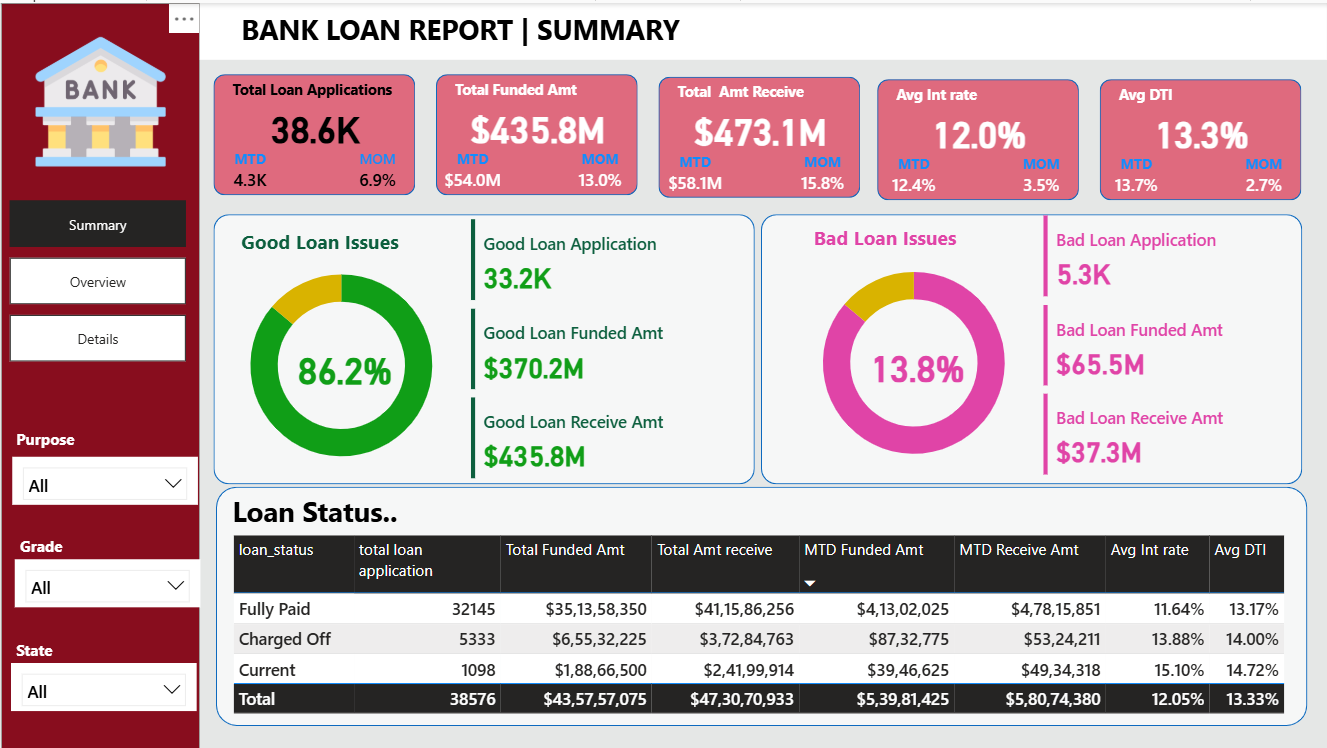

The dashboard page shown, as its layout file describes it:
{"tool":"powerbi","page":{"name":"Summary ","canvas":[1280,720],"ordinal":0},"visuals":[{"type":"image","box":[26,27.4,141.4,135.6],"z":0,"group":"g13"},{"type":"shape","box":[205.1,68.8,194.8,116.9],"z":0,"group":"g1"},{"type":"shape","box":[420.1,68.8,194.8,116.9],"z":0,"group":"g3"},{"type":"shape","box":[635,71.7,194.8,116.9],"z":0,"group":"g4"},{"type":"shape","box":[845.7,73.1,194.8,116.9],"z":0,"group":"g5"},{"type":"shape","box":[1060.7,73.1,194.8,116.9],"z":0,"group":"g8"},{"type":"shape","box":[205.1,203.9,522.4,260.6],"z":0},{"type":"slicer","title":"State","fields":{"Values":["public loan_data.purpose"]},"box":[10.1,437.1,178.9,46.2],"z":0,"group":"g10"},{"type":"slicer","title":"State","fields":{"Values":["public loan_data.grade"]},"box":[13,536.7,178.9,46.2],"z":0,"group":"g11"},{"type":"slicer","title":"State","fields":{"Values":["public loan_data.address_state"]},"box":[10.1,636.2,178.9,46.2],"z":0,"group":"g12"},{"type":"donutChart","fields":{"Category":["public loan_data.Good Vs Bad Loan"],"Y":["meassures.total loan application"]},"box":[756,232.3,249.6,229.4],"z":500,"group":"g9"},{"type":"donutChart","fields":{"Category":["public loan_data.Good Vs Bad Loan"],"Y":["meassures.total loan application"]},"box":[203.4,235.1,249.6,229.4],"z":500,"group":"g7"},{"type":"shape","box":[0,0,191.9,719.9],"z":1000},{"type":"card","fields":{"Values":["meassures.total loan application"]},"box":[218.1,99.1,170.2,41.8],"z":1000,"group":"g1"},{"type":"card","fields":{"Values":["meassures.Total Funded Amt"]},"box":[433.1,99.1,170.2,41.8],"z":1000,"group":"g3"},{"type":"card","fields":{"Values":["meassures.Total Amt receive"]},"box":[648,102,170.2,41.8],"z":1000,"group":"g4"},{"type":"card","fields":{"Values":["meassures.Avg Int rate"]},"box":[858.7,103.4,170.2,41.8],"z":1000,"group":"g5"},{"type":"card","fields":{"Values":["meassures.Avg DTI"]},"box":[1073.7,103.4,170.2,41.8],"z":1000,"group":"g8"},{"type":"pageNavigator","box":[8.7,190.4,170.2,157.3],"z":1000,"group":"g13"},{"type":"textbox","box":[9.2,405.1,77.9,50.5],"z":1000,"group":"g10"},{"type":"textbox","box":[13,509.3,57.7,50.5],"z":1000,"group":"g11"},{"type":"textbox","box":[10.1,608.8,57.7,50.5],"z":1000,"group":"g12"},{"type":"shape","box":[191.9,0,1087.8,54.8],"z":2000},{"type":"textbox","box":[218.1,68.8,170.2,36.1],"z":2000,"group":"g1"},{"type":"textbox","box":[433.1,68.8,170.2,36.1],"z":2000,"group":"g3"},{"type":"textbox","box":[648,71.7,170.2,36.1],"z":2000,"group":"g4"},{"type":"textbox","box":[858.7,73.1,170.2,36.1],"z":2000,"group":"g5"},{"type":"textbox","box":[1073.7,73.1,170.2,36.1],"z":2000,"group":"g8"},{"type":"textbox","box":[226.5,2.9,453,51.9],"z":3000},{"type":"group","id":"g1","title":"Group 1","box":[205.1,68.8,204.9,116.9],"z":3000,"group":"g2"},{"type":"card","title":"MTD","fields":{"Values":["meassures.MTD Loan Application"]},"box":[205.1,140.9,70.7,44.7],"z":3000,"group":"g1"},{"type":"card","title":"MTD","fields":{"Values":["meassures.MTD Funded Amt"]},"box":[420.1,140.9,70.7,44.7],"z":3000,"group":"g3"},{"type":"card","title":"MTD","fields":{"Values":["meassures.MTD Receive Amt"]},"box":[635,143.8,70.7,44.7],"z":3000,"group":"g4"},{"type":"card","title":"MTD","fields":{"Values":["meassures.MTD Interest rate"]},"box":[845.7,145.2,70.7,44.7],"z":3000,"group":"g5"},{"type":"card","title":"MTD","fields":{"Values":["meassures.MTD DTI"]},"box":[1060.7,145.2,70.7,44.7],"z":3000,"group":"g8"},{"type":"group","id":"g2","title":"Group 2","box":[205.1,68.8,1060.5,121.9],"z":4000},{"type":"group","id":"g3","title":"Group 1","box":[420.1,68.8,204.9,116.9],"z":4000,"group":"g2"},{"type":"card","title":"MOM","fields":{"Values":["meassures.MOM Loan Applications"]},"box":[317.6,140.9,92.3,44.7],"z":4000,"group":"g1"},{"type":"card","title":"MOM","fields":{"Values":["meassures.MOM Funded Amt"]},"box":[532.6,140.9,92.3,44.7],"z":4000,"group":"g3"},{"type":"card","title":"MOM","fields":{"Values":["meassures.MOM"]},"box":[747.5,143.8,92.3,44.7],"z":4000,"group":"g4"},{"type":"card","title":"MOM","fields":{"Values":["meassures.MOM"]},"box":[958.2,145.2,92.3,44.7],"z":4000,"group":"g5"},{"type":"card","title":"MOM","fields":{"Values":["meassures.MOM DTI"]},"box":[1173.2,145.2,92.3,44.7],"z":4000,"group":"g8"},{"type":"card","fields":{"Values":["meassures.Bad Loan %"]},"box":[823.9,329.4,121.2,41.8],"z":4000,"group":"g9"},{"type":"card","fields":{"Values":["meassures.Good Loan %"]},"box":[271.3,332.2,121.2,41.8],"z":4000,"group":"g7"},{"type":"group","id":"g4","title":"Group 1","box":[635,71.7,204.9,116.9],"z":5000,"group":"g2"},{"type":"shape","box":[733.5,203.9,522.4,260.6],"z":5000},{"type":"group","id":"g5","title":"Group 1","box":[845.7,73.1,204.9,116.9],"z":6000,"group":"g2"},{"type":"group","id":"g6","title":"Group 4","box":[203.4,203.4,502.1,261.1],"z":6000},{"type":"group","id":"g7","title":"Group 3","box":[203.4,235.1,249.6,229.4],"z":6000,"group":"g6"},{"type":"group","id":"g8","title":"Group 1","box":[1060.7,73.1,204.9,116.9],"z":7000,"group":"g2"},{"type":"textbox","box":[226.5,212.1,203.4,46.2],"z":7000,"group":"g6"},{"type":"group","id":"g9","title":"Group 3","box":[756,232.3,249.6,229.4],"z":7000},{"type":"cardVisual","fields":{"Data":["meassures.Good Loan Application","meassures.Good Loan Funded Amt","meassures.Good Loan Receive Amt"]},"box":[448.7,203.4,256.8,261.1],"z":8000,"group":"g6"},{"type":"textbox","box":[779.1,209.2,203.4,46.2],"z":8000},{"type":"shape","box":[207.8,467.5,1053.2,230.8],"z":9000},{"type":"cardVisual","fields":{"Data":["meassures.Bad Loan Application","meassures.Bad Loan Funded Amt","meassures.Bad Loan Receive Amt"]},"box":[1001.3,200.5,256.8,261.1],"z":10000},{"type":"tableEx","fields":{"Values":["public loan_data.loan_status","meassures.total loan application","meassures.Total Funded Amt","meassures.Total Amt receive","meassures.MTD Funded Amt","meassures.MTD Receive Amt","meassures.Avg Int rate","meassures.Avg DTI"]},"box":[217.9,509.3,1025.8,184.7],"z":11000},{"type":"group","id":"g10","title":"Group 5","box":[9.2,405.1,179.8,78.2],"z":12000},{"type":"group","id":"g11","title":"Group 5","box":[13,509.3,178.9,73.6],"z":13000},{"type":"group","id":"g12","title":"Group 5","box":[10.1,608.8,178.9,73.6],"z":14000},{"type":"group","id":"g13","title":"Group 6","box":[8.7,27.4,170.2,320.3],"z":15000},{"type":"textbox","box":[217.9,467.5,453,51.9],"z":16000}]}

Visuals, with their boxes on the page's 1280x720 design canvas (x1, y1, x2, y2). These are canvas units, not pixel positions in the 1327x748 screenshot, which may show the page scaled, cropped or inside an application window:
image: [26, 27, 167, 163]
shape: [205, 69, 400, 186]
shape: [420, 69, 615, 186]
shape: [635, 72, 830, 189]
shape: [846, 73, 1040, 190]
shape: [1061, 73, 1256, 190]
shape: [205, 204, 728, 464]
"State" slicer: [10, 437, 189, 483]
"State" slicer: [13, 537, 192, 583]
"State" slicer: [10, 636, 189, 682]
donutChart - public loan_data.Good Vs Bad Loan x meassures.total loan application: [756, 232, 1006, 462]
donutChart - public loan_data.Good Vs Bad Loan x meassures.total loan application: [203, 235, 453, 464]
shape: [0, 0, 192, 720]
card - meassures.total loan application: [218, 99, 388, 141]
card - meassures.Total Funded Amt: [433, 99, 603, 141]
card - meassures.Total Amt receive: [648, 102, 818, 144]
card - meassures.Avg Int rate: [859, 103, 1029, 145]
card - meassures.Avg DTI: [1074, 103, 1244, 145]
pageNavigator: [9, 190, 179, 348]
textbox: [9, 405, 87, 456]
textbox: [13, 509, 71, 560]
textbox: [10, 609, 68, 659]
shape: [192, 0, 1280, 55]
textbox: [218, 69, 388, 105]
textbox: [433, 69, 603, 105]
textbox: [648, 72, 818, 108]
textbox: [859, 73, 1029, 109]
textbox: [1074, 73, 1244, 109]
textbox: [226, 3, 680, 55]
"Group 1" group: [205, 69, 410, 186]
"MTD" card: [205, 141, 276, 186]
"MTD" card: [420, 141, 491, 186]
"MTD" card: [635, 144, 706, 188]
"MTD" card: [846, 145, 916, 190]
"MTD" card: [1061, 145, 1131, 190]
"Group 2" group: [205, 69, 1266, 191]
"Group 1" group: [420, 69, 625, 186]
"MOM" card: [318, 141, 410, 186]
"MOM" card: [533, 141, 625, 186]
"MOM" card: [748, 144, 840, 188]
"MOM" card: [958, 145, 1050, 190]
"MOM" card: [1173, 145, 1266, 190]
card - meassures.Bad Loan %: [824, 329, 945, 371]
card - meassures.Good Loan %: [271, 332, 392, 374]
"Group 1" group: [635, 72, 840, 189]
shape: [734, 204, 1256, 464]
"Group 1" group: [846, 73, 1051, 190]
"Group 4" group: [203, 203, 706, 464]
"Group 3" group: [203, 235, 453, 464]
"Group 1" group: [1061, 73, 1266, 190]
textbox: [226, 212, 430, 258]
"Group 3" group: [756, 232, 1006, 462]
cardVisual - meassures.Good Loan Application x meassures.Good Loan Funded Amt: [449, 203, 706, 464]
textbox: [779, 209, 982, 255]
shape: [208, 468, 1261, 698]
cardVisual - meassures.Bad Loan Application x meassures.Bad Loan Funded Amt: [1001, 200, 1258, 462]
tableEx - public loan_data.loan_status x meassures.total loan application: [218, 509, 1244, 694]
"Group 5" group: [9, 405, 189, 483]
"Group 5" group: [13, 509, 192, 583]
"Group 5" group: [10, 609, 189, 682]
"Group 6" group: [9, 27, 179, 348]
textbox: [218, 468, 671, 519]
